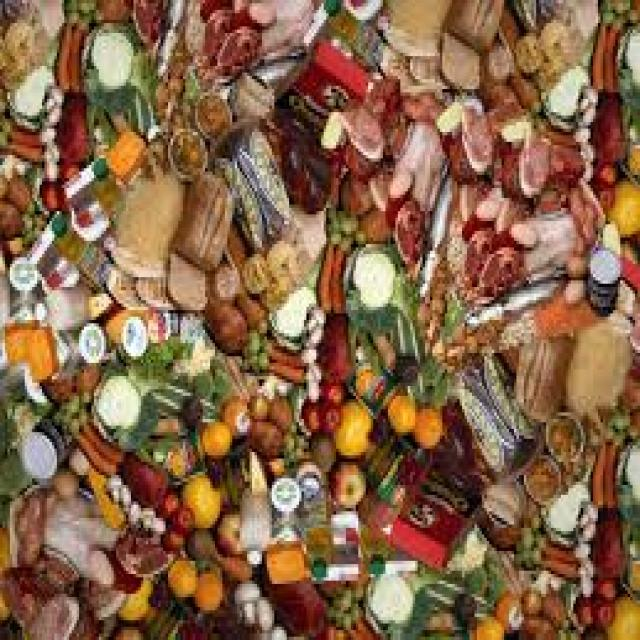food_waste: (18, 31, 614, 631), (246, 120, 542, 549)
